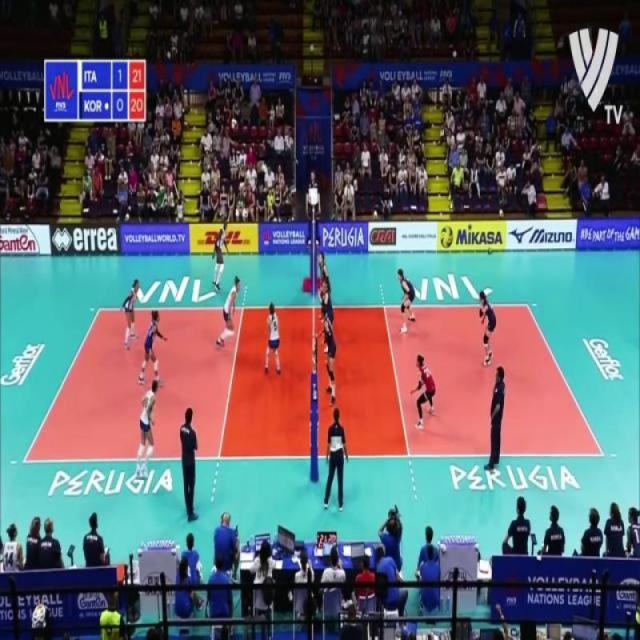volleyball: (439, 225, 454, 248), (231, 120, 238, 132)
